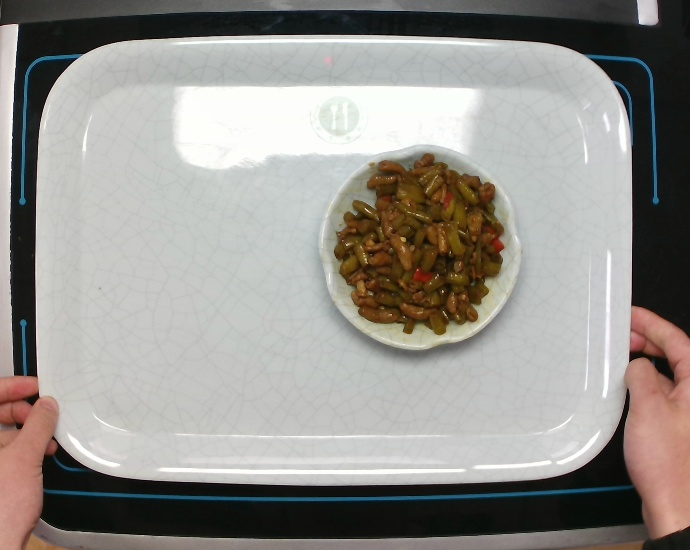JYsf-Ao_Yuan_Wan: (312, 143, 524, 352)
